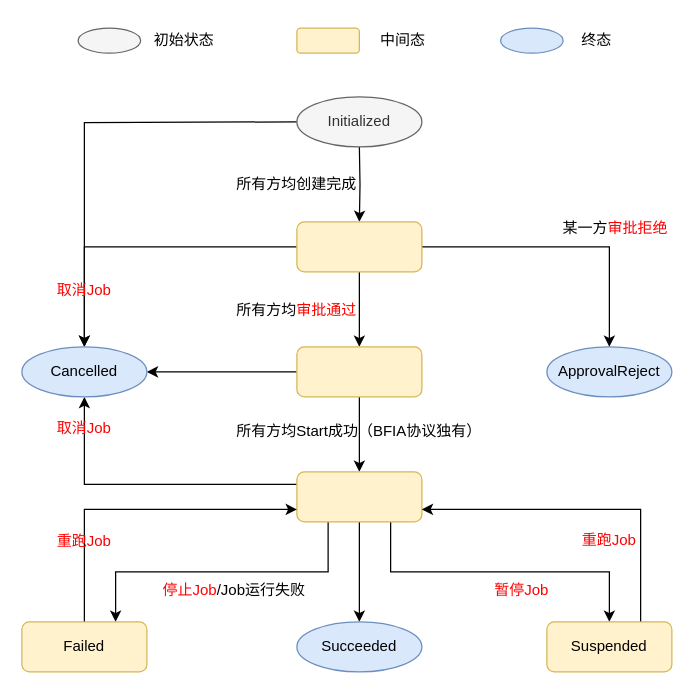
Image size: 694x694. Some labels were removed from this diagram. Here are the shapes that lost their labels. From the top down, the centre of each, then its label:
At (359,246): "AwaitingApproval".
At (359,371): "Pending".
At (359,496): "Running".
